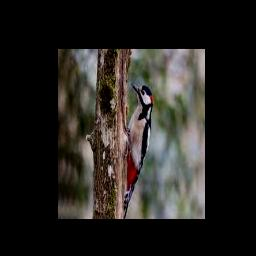Woodpecker: (123, 82, 153, 219)
